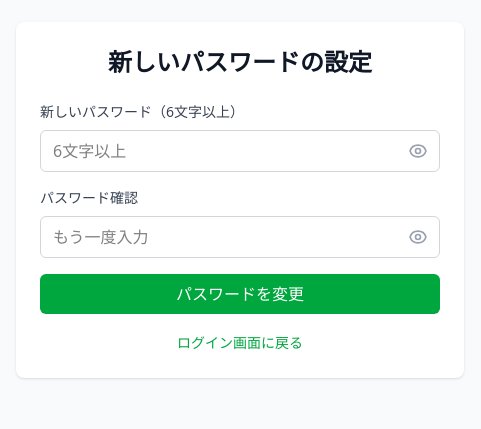
Test: ResetPassword › パスワード長が6文字未満の場合、バリデーションエラーが表示されること
In the password field labelled "新しいパスワード（6文字以上）": (240, 151) [40,130,440,172], type "pass"
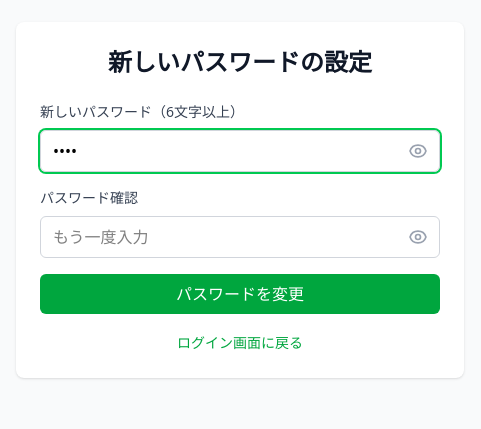
In the password field labelled "パスワード確認": (240, 237) [40,216,440,258], type "pass"
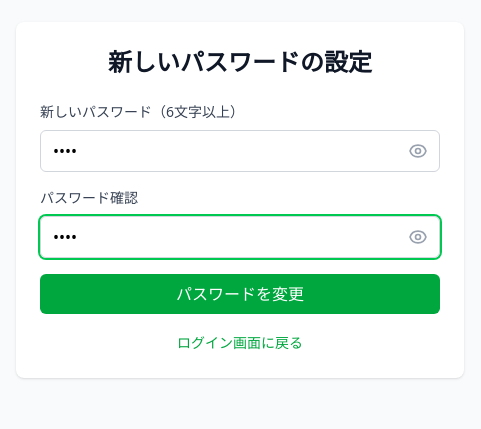
Click the button "パスワードを変更": (240, 294) [40,274,440,314]
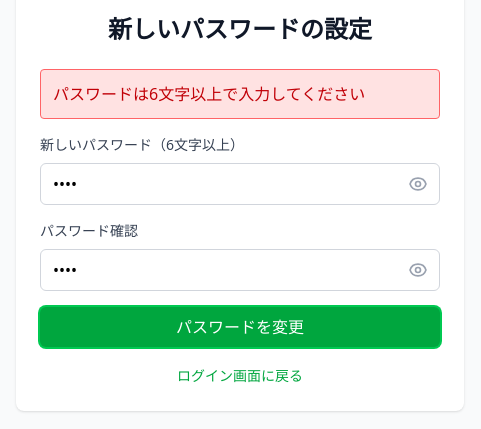
Expected: the text "パスワードは6文字以上で入力してください" is shown, [40,69,440,119]
